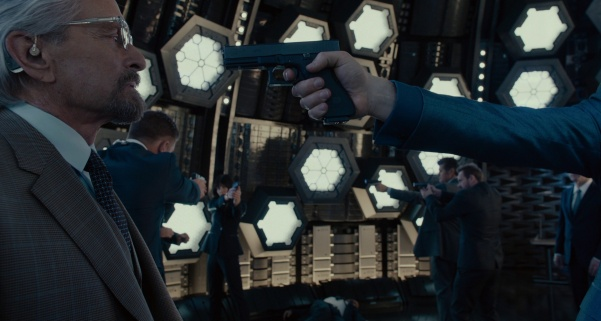pistol: (216, 36, 352, 123), (411, 180, 440, 202), (359, 176, 388, 196), (188, 173, 209, 195), (227, 180, 245, 200)
